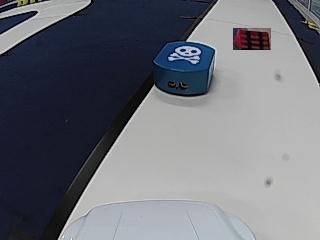danger: (168, 45, 199, 63)
